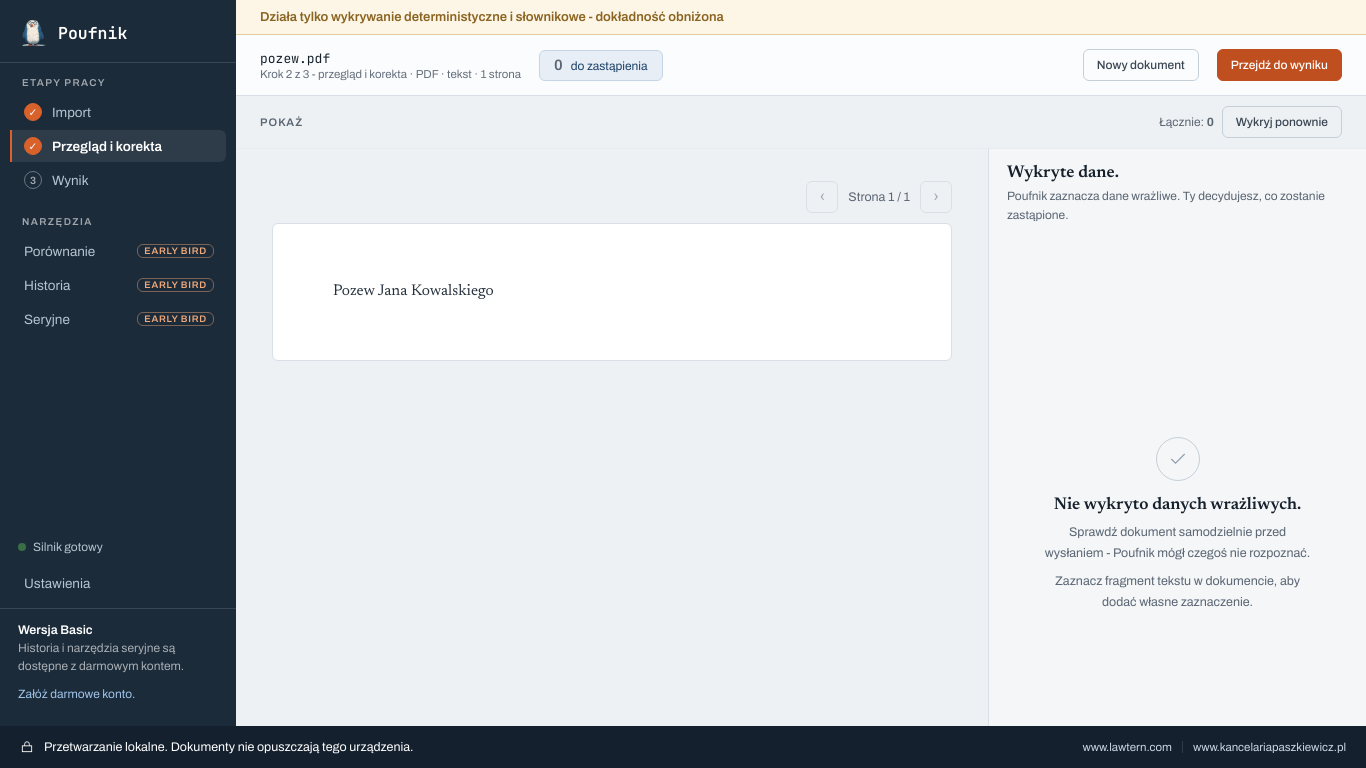
Test: App engine health › explains that a DOCX made from a PDF has a simplified layout
Click the button "3 Wynik".
click(118, 180)  # box [10, 164, 226, 196]
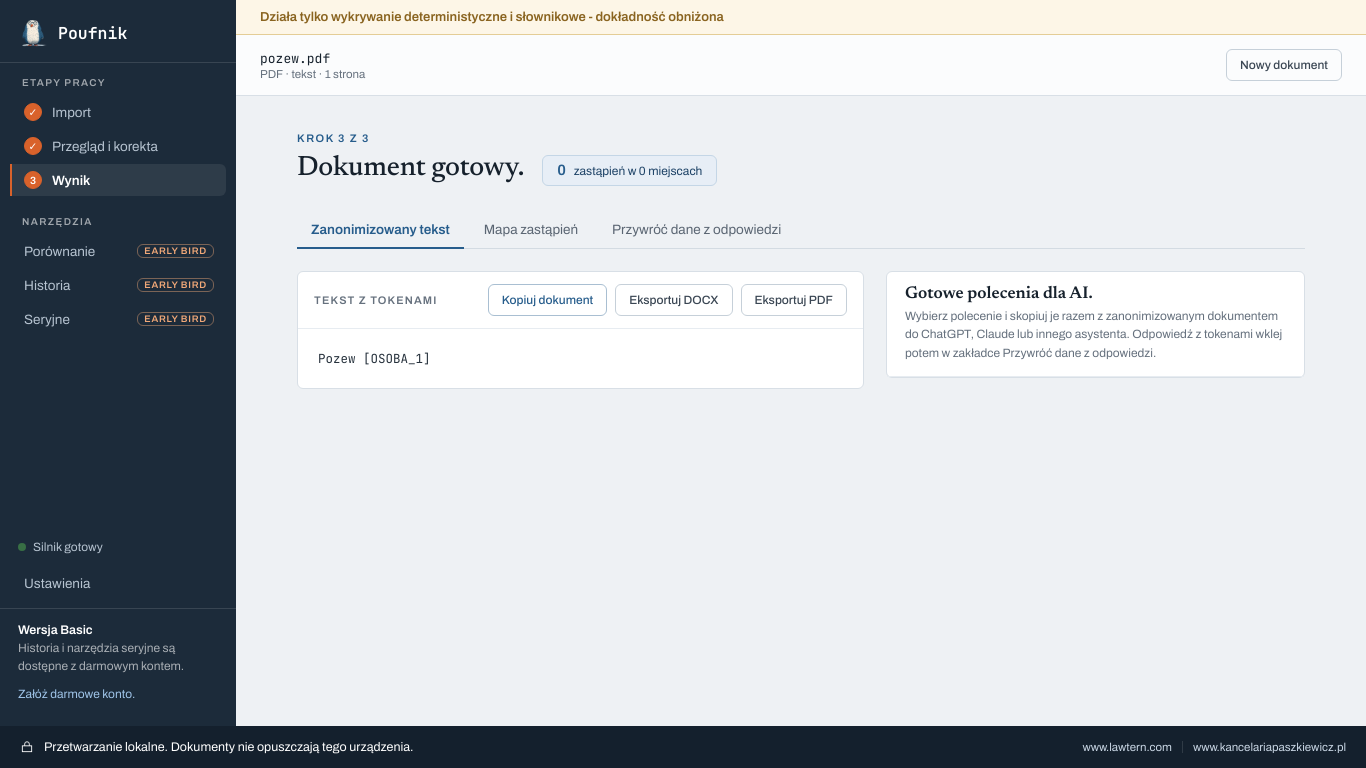
Click the button "Eksportuj DOCX".
click(674, 300)  # box [615, 284, 732, 316]
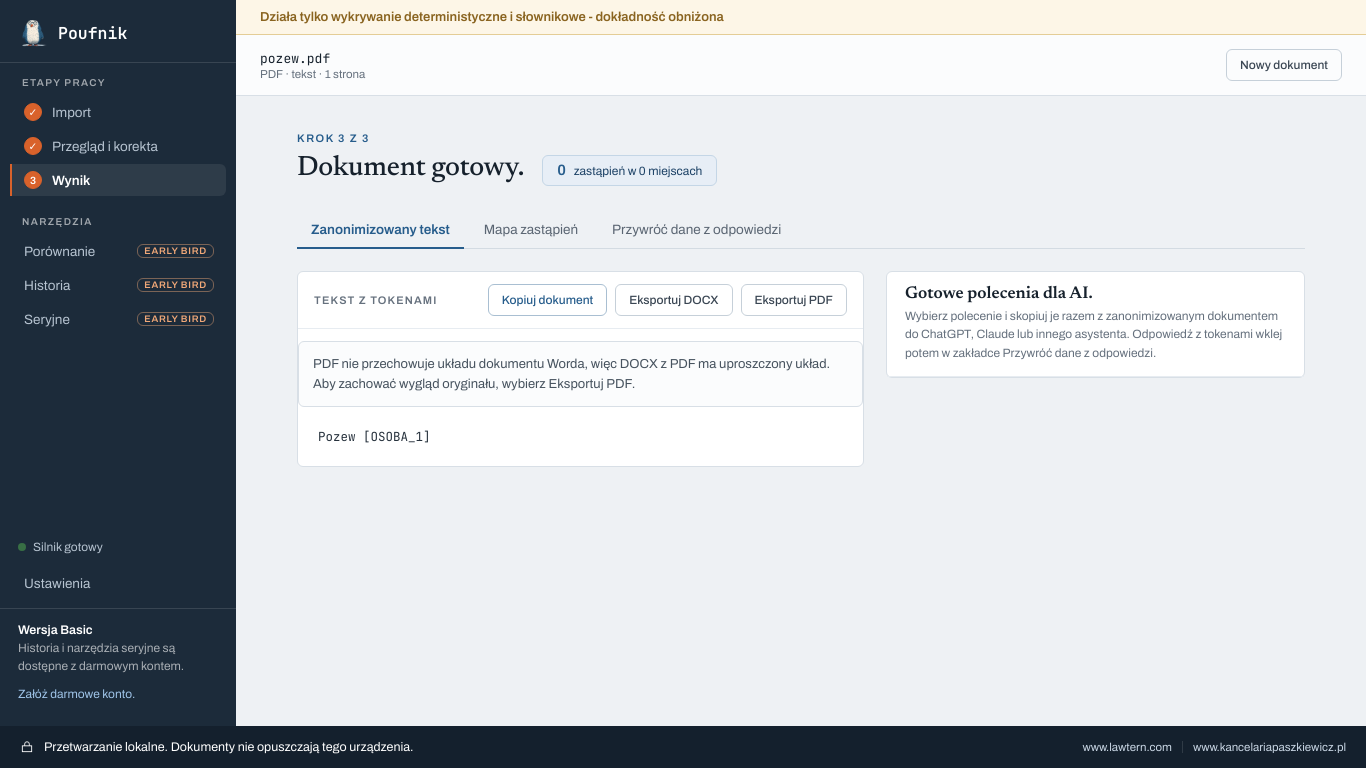
Check: the text "PDF nie przechowuje układu dokumentu Worda, więc DOCX z PDF ma uproszczony układ. Aby zachować wygląd oryginału, wybierz" is shown, box [313, 357, 830, 391]
